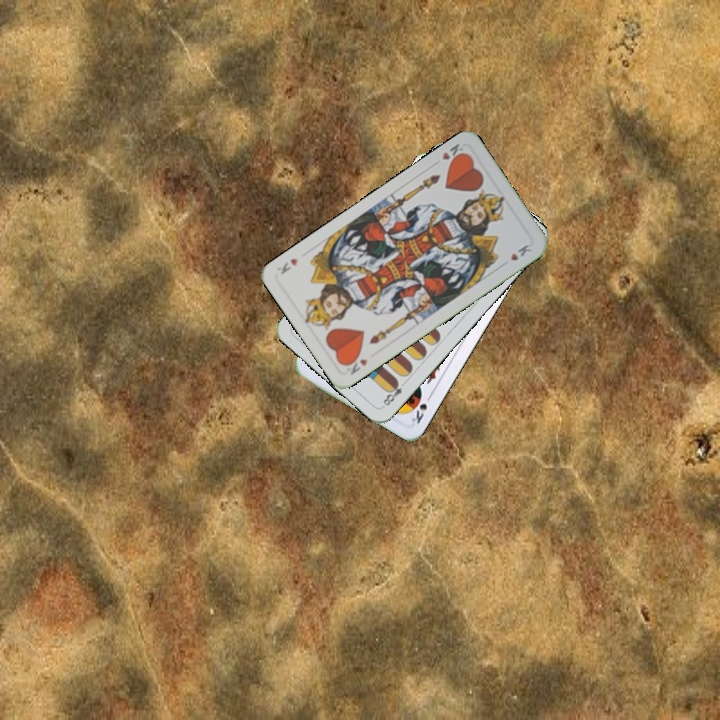E8: (378, 376, 410, 410)
HK: (429, 140, 468, 168), (341, 351, 370, 377)
SK: (408, 390, 435, 427)
